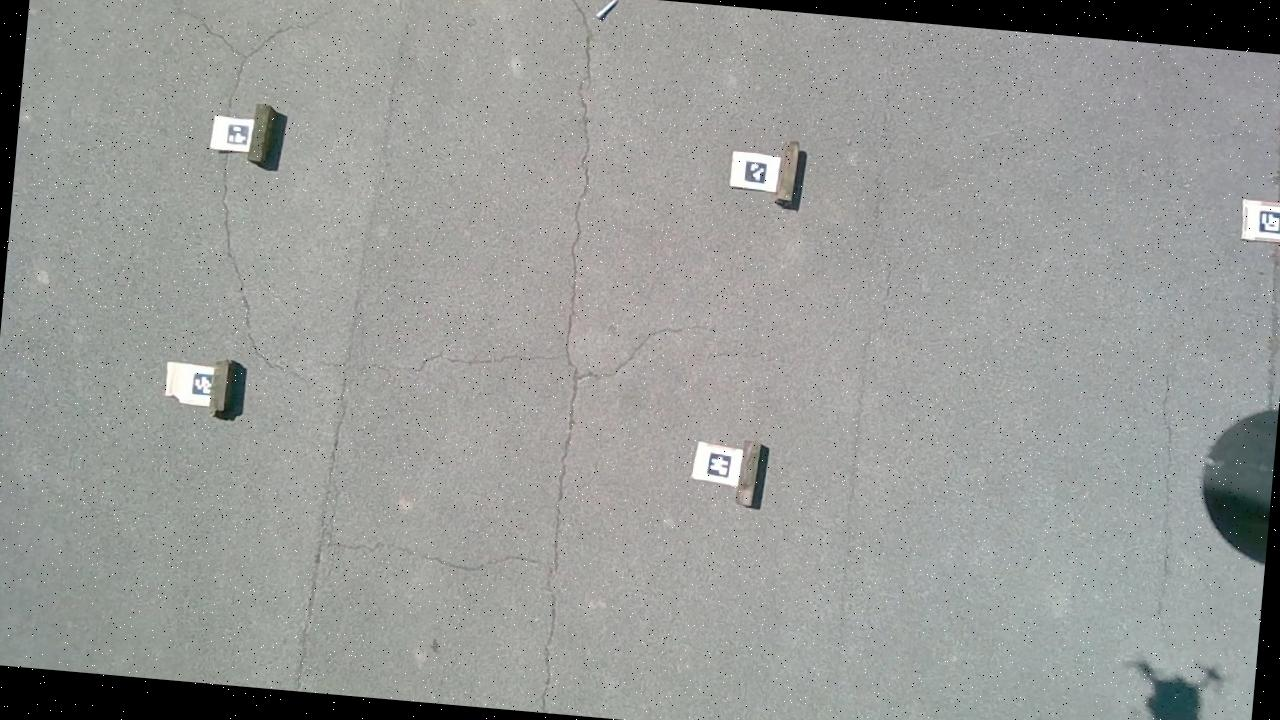probes: (594, 0, 615, 22)
